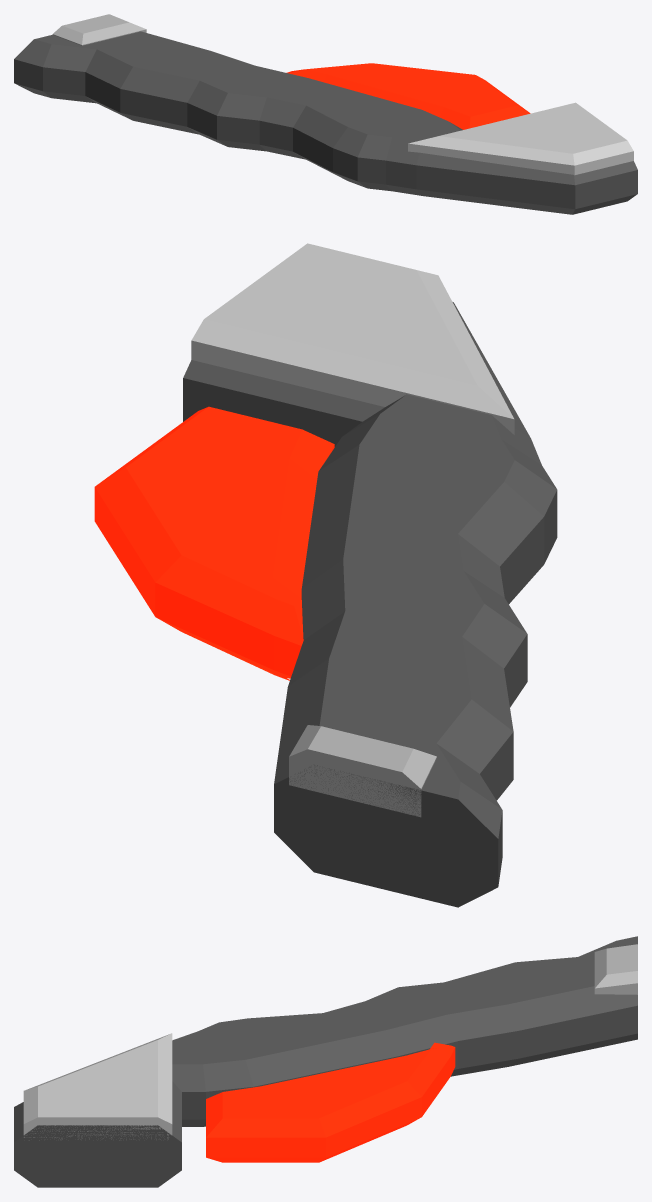
The model's file is newshk-237.glb.
The picture shows the model from 3 angles, top to bottom: view 1: azimuth 30°, elevation 25°; view 2: azimuth 150°, elevation 25°; view 3: azimuth 270°, elevation 25°; orthographic projection. The views are drawn at different scales.
Visible parts, largest first — view 1: newshk-237; view 2: newshk-237; view 3: newshk-237.
Part boxes in pixels (bbox=[...]): newshk-237: bbox=[14, 14, 637, 214]; newshk-237: bbox=[94, 243, 557, 907]; newshk-237: bbox=[14, 936, 637, 1187].
Bounding box in the file's own units: 1.65 × 0.27 × 2.17.
